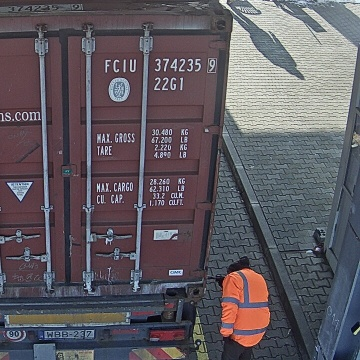serial_id: (105, 58, 216, 72)
